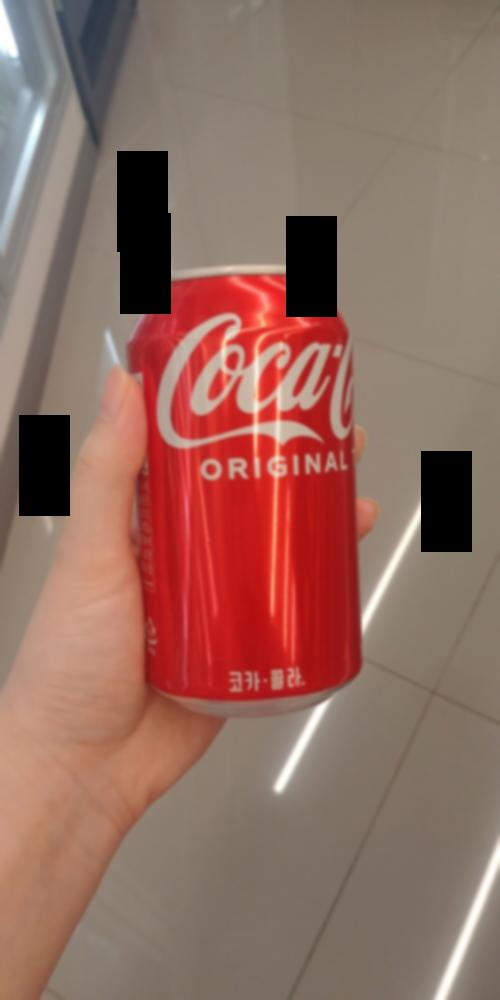cocacola: (108, 275, 391, 735)
